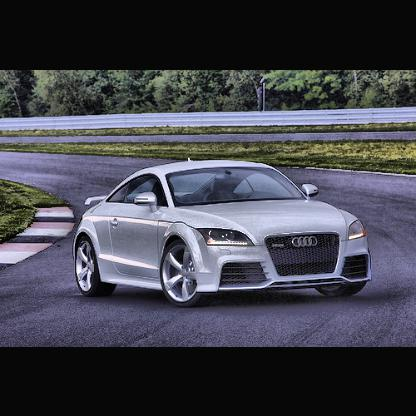Audi TT RS Coupe 2012: (73, 155, 376, 311)
